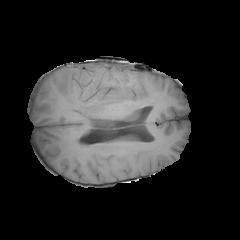glioma: (55, 72, 169, 130)
